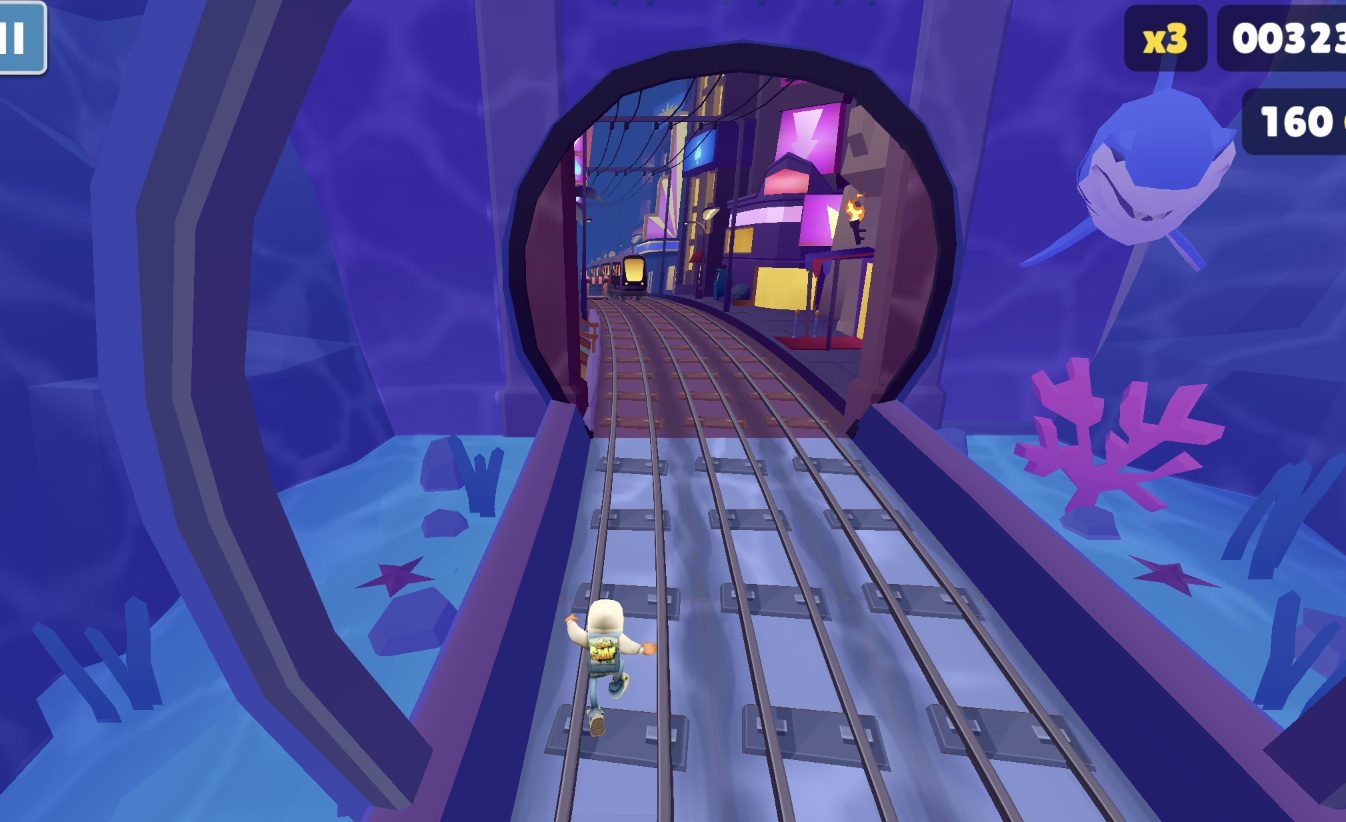ground_barrier: (579, 304, 602, 367), (588, 267, 616, 299)
train: (617, 251, 650, 296)
